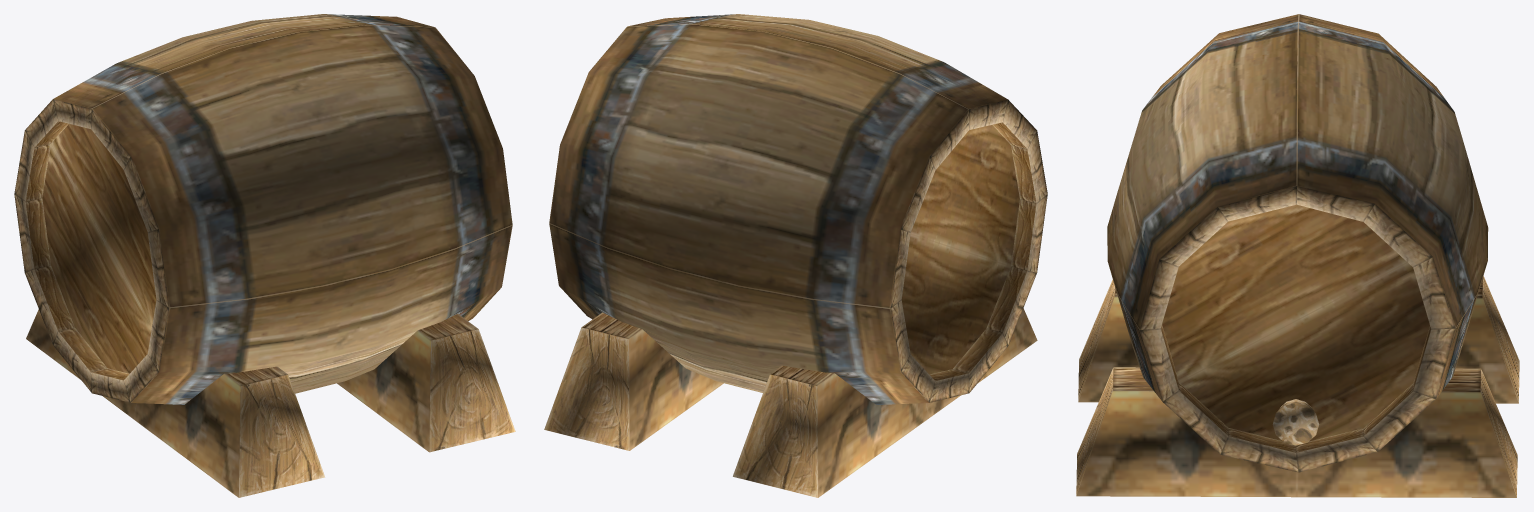
Rendered from beerkeg01.obj.
3 views of the same model, side by side, from view 1: azimuth 30°, elevation 25°; view 2: azimuth 150°, elevation 25°; view 3: azimuth 270°, elevation 25° (orthographic).
Parts seen in each view (by area): view 1: beerkeg01.m2; view 2: beerkeg01.m2; view 3: beerkeg01.m2.
Part boxes in pixels (x1,y1,x2,y2): beerkeg01.m2: [14, 14, 515, 497]; beerkeg01.m2: [544, 14, 1047, 497]; beerkeg01.m2: [1076, 14, 1519, 497].
Size of the model in its own units: 1.35 by 1.3 by 1.48.
Materials: 1 (1 with a texture image).
